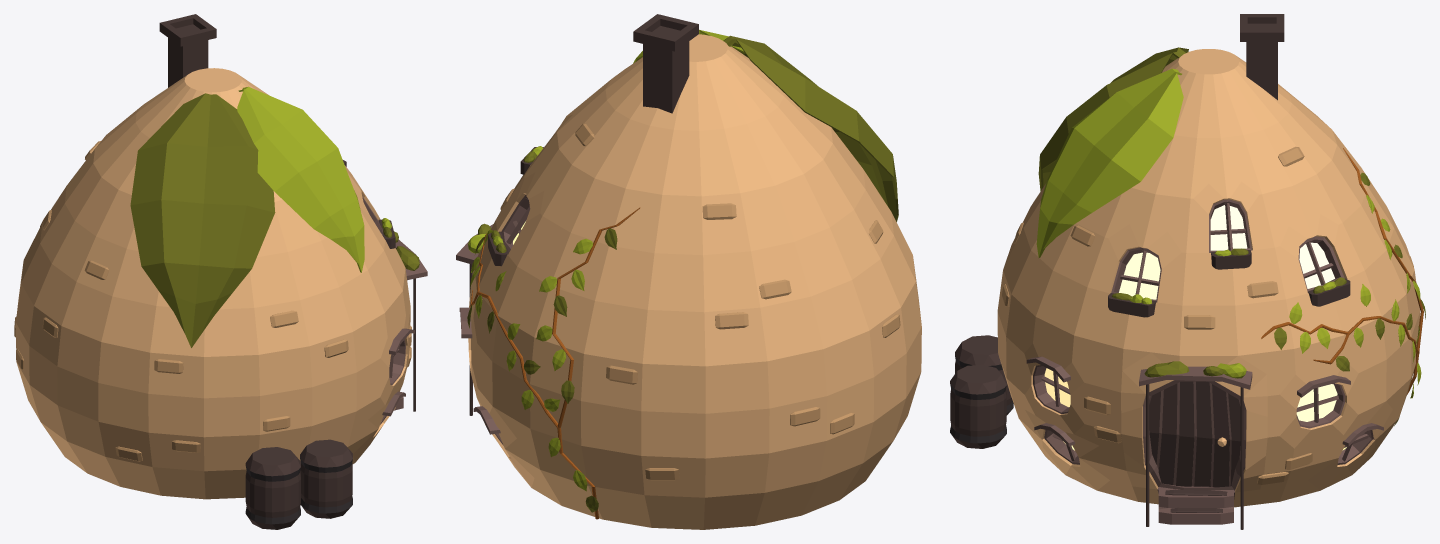
File: HouseSmall.glb
3 renders of one model, left to right at view 1: azimuth 30°, elevation 25°; view 2: azimuth 150°, elevation 25°; view 3: azimuth 270°, elevation 25°, orthographic. The views are drawn at different scales.
Parts seen in each view (by area): view 1: house.001, leaf.044, leaf.043, Cylinder.004, Cylinder.005, Cube.009, Cube.010; view 2: house.001, leaf.044, Cube.009, Cube.010, Cylinder, Cylinder.002, Cube.028, Cube.024; view 3: house.001, leaf.043, door, Cylinder.005, leaf.044, Cube.002, Cube.009, Cylinder.004, Cube.010, house.004, house.003, Cube.013 (+8 smaller).
Part boxes in pixels (x1=…): house.001: x1=16, y1=68, x2=410, y2=499; leaf.044: x1=130, y1=93, x2=275, y2=347; leaf.043: x1=237, y1=86, x2=364, y2=272; Cylinder.004: x1=245, y1=447, x2=300, y2=529; Cylinder.005: x1=300, y1=439, x2=352, y2=518; Cube.009: x1=168, y1=38, x2=208, y2=87; Cube.010: x1=159, y1=14, x2=216, y2=46; house.001: x1=468, y1=34, x2=921, y2=529; leaf.044: x1=723, y1=35, x2=898, y2=221; Cube.009: x1=643, y1=41, x2=689, y2=113; Cube.010: x1=633, y1=14, x2=698, y2=51; Cylinder: x1=552, y1=207, x2=640, y2=519; Cylinder.002: x1=470, y1=290, x2=558, y2=428; Cube.028: x1=702, y1=203, x2=736, y2=219; Cube.024: x1=715, y1=312, x2=748, y2=329; house.001: x1=997, y1=49, x2=1419, y2=507; leaf.043: x1=1036, y1=68, x2=1183, y2=257; door: x1=1149, y1=381, x2=1240, y2=487; Cylinder.005: x1=950, y1=364, x2=1006, y2=448; leaf.044: x1=1038, y1=47, x2=1188, y2=191; Cube.002: x1=1158, y1=486, x2=1233, y2=524; Cube.009: x1=1246, y1=42, x2=1277, y2=100; Cylinder.004: x1=955, y1=335, x2=1013, y2=415; Cube.010: x1=1240, y1=14, x2=1284, y2=41; house.004: x1=1119, y1=252, x2=1160, y2=299; house.003: x1=1210, y1=205, x2=1247, y2=250; Cube.013: x1=1139, y1=366, x2=1252, y2=389.
Size of the model in its own units: 15.15 by 15.69 by 16.35.
